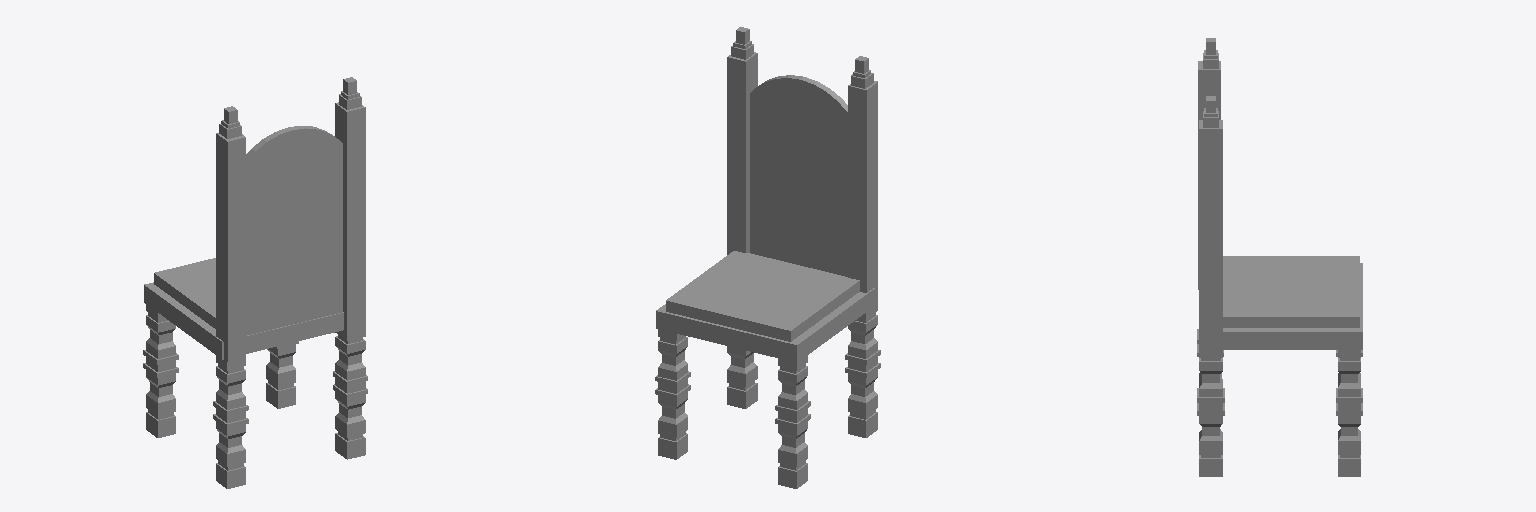
Rendered from decorative_wooden_chair.obj.
3 views of the same model, side by side, from view 1: azimuth 30°, elevation 25°; view 2: azimuth 150°, elevation 25°; view 3: azimuth 270°, elevation 25° (orthographic).
Parts seen in each view (by area): view 1: Cube; view 2: Cube; view 3: Cube.
Boxes of the visible parts, box(x1,y1,x2,y2) form: Cube: box(143, 77, 367, 488); Cube: box(655, 27, 880, 488); Cube: box(1197, 38, 1362, 476).
Size of the model in its own units: 2.01 by 5.05 by 2.05.